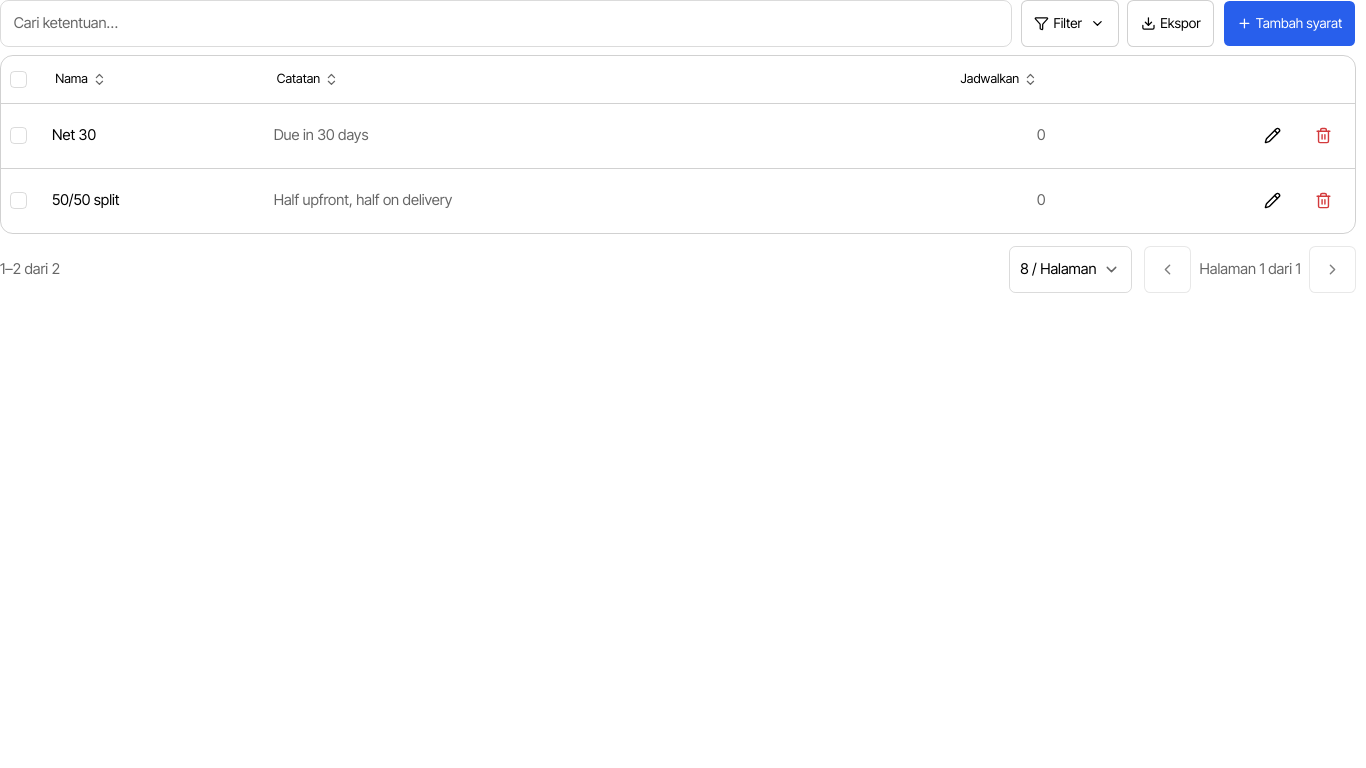
Scenario: PaymentTermsSection remainder › requires at least one line when creating a term
Click the button "Tambah syarat". click: {"x": 1289, "y": 23}
box: x1=1223 y1=0 x2=1356 y2=47
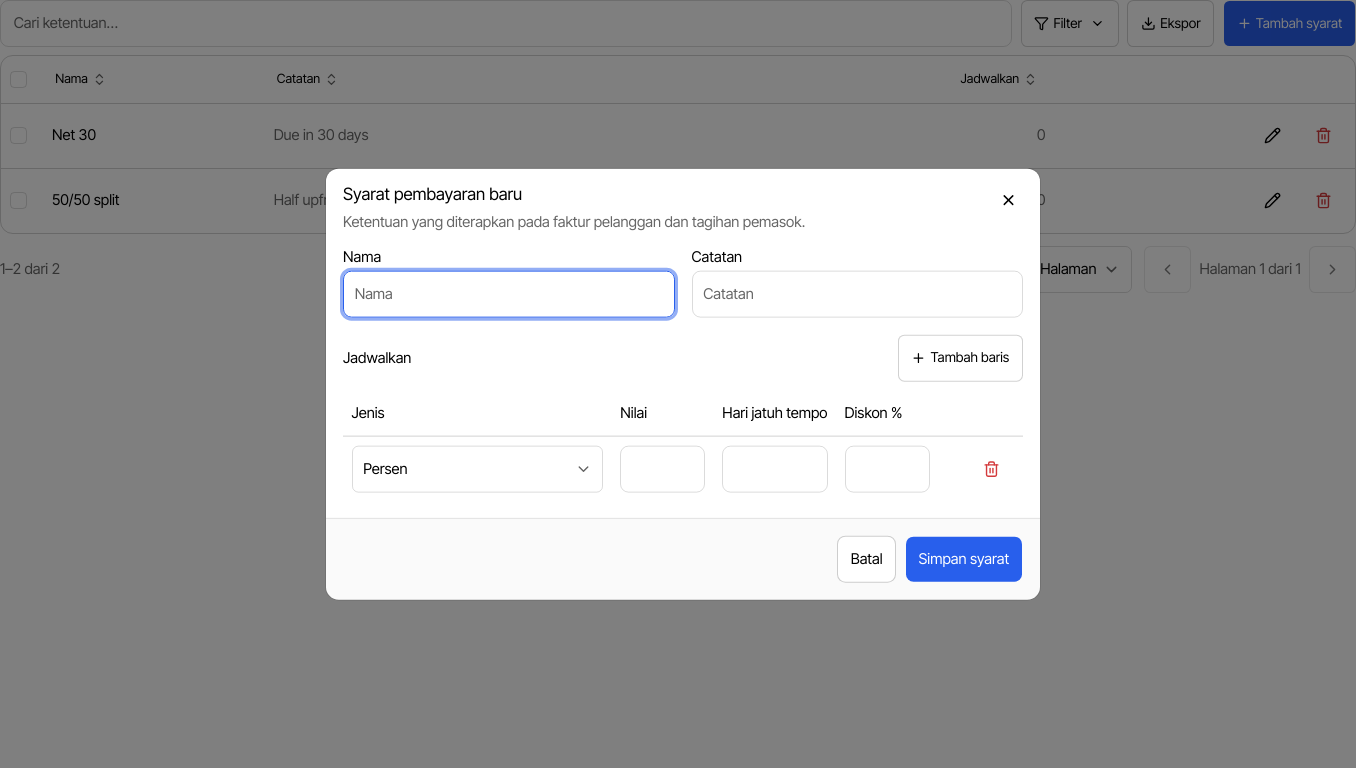
Type "Empty term" into the field labelled "Nama". click: {"x": 509, "y": 294}
box: x1=343 y1=271 x2=674 y2=317
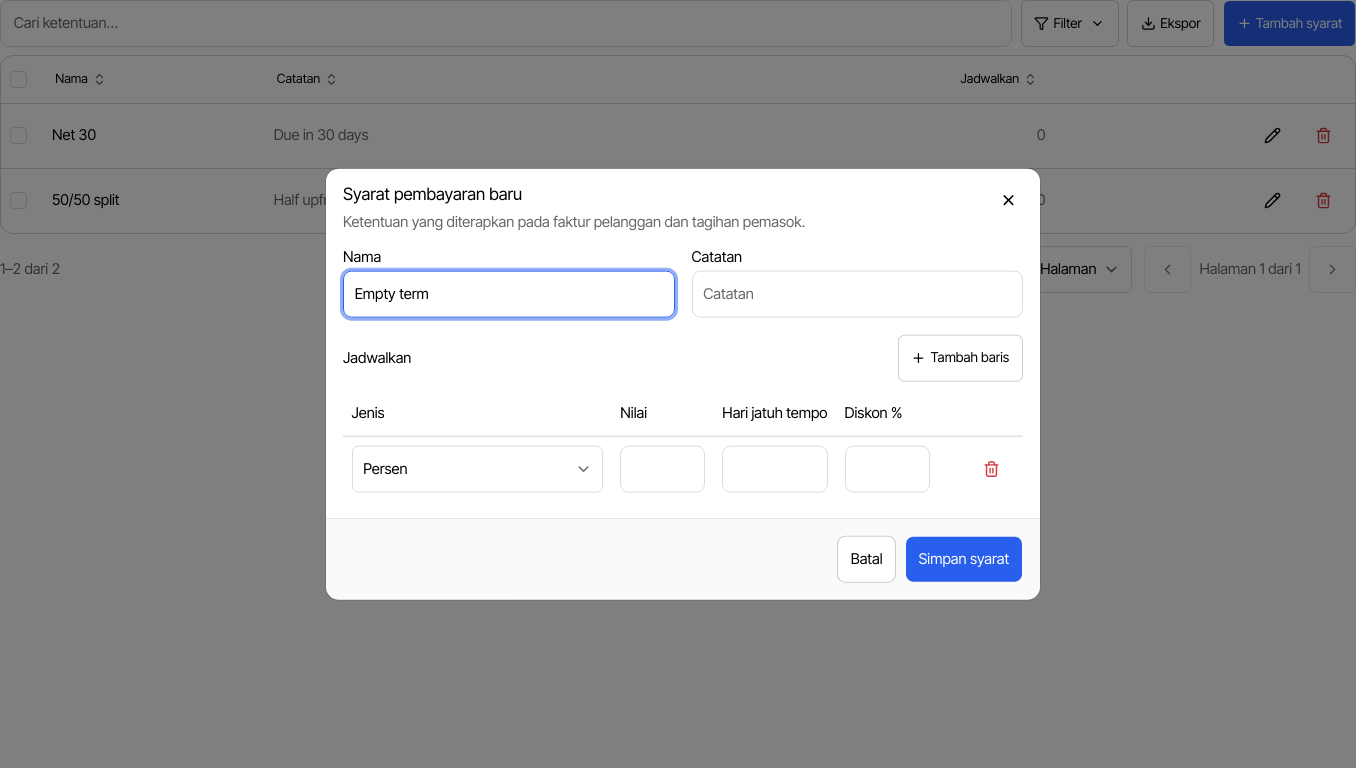
Click the button named "Hapus baris". click: {"x": 991, "y": 469}
box: x1=968 y1=445 x2=1015 y2=492
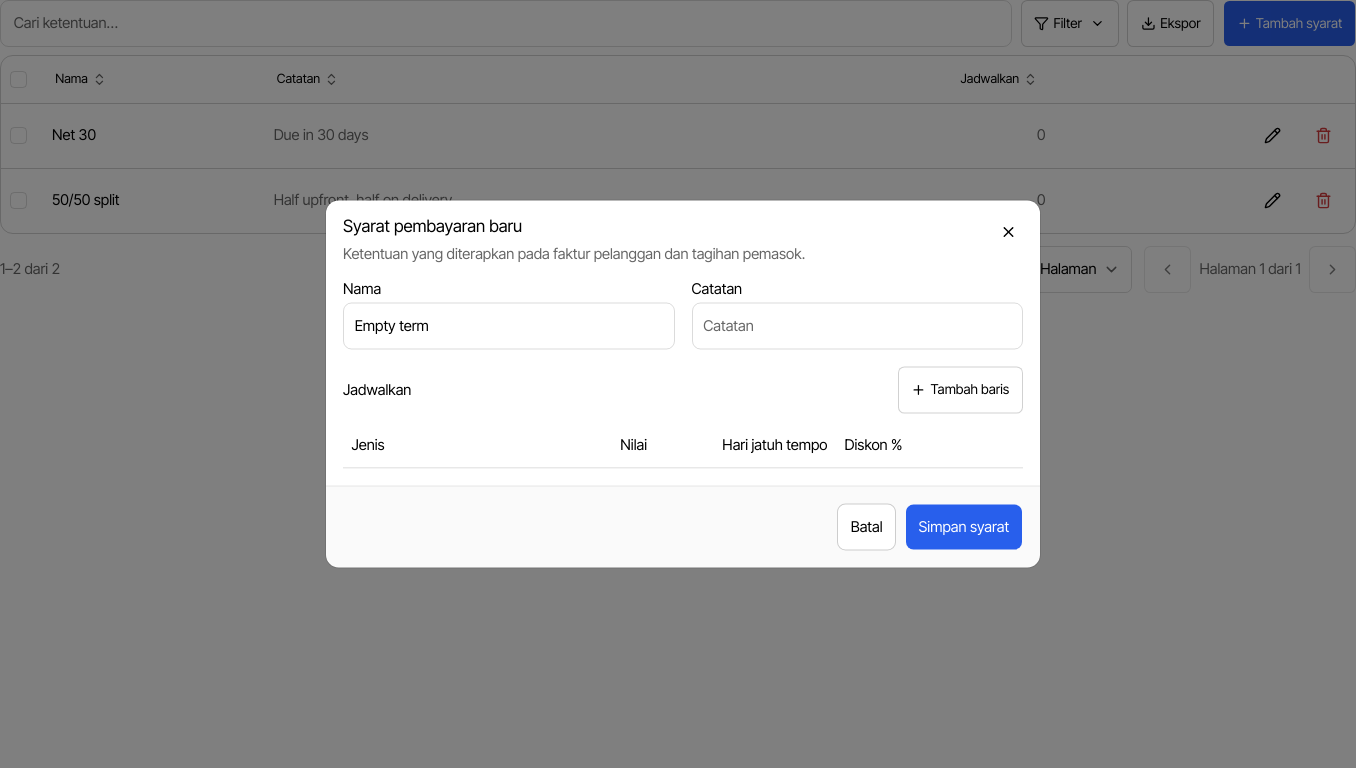
Click the button "Simpan syarat". click: {"x": 964, "y": 527}
box: x1=905 y1=504 x2=1023 y2=551
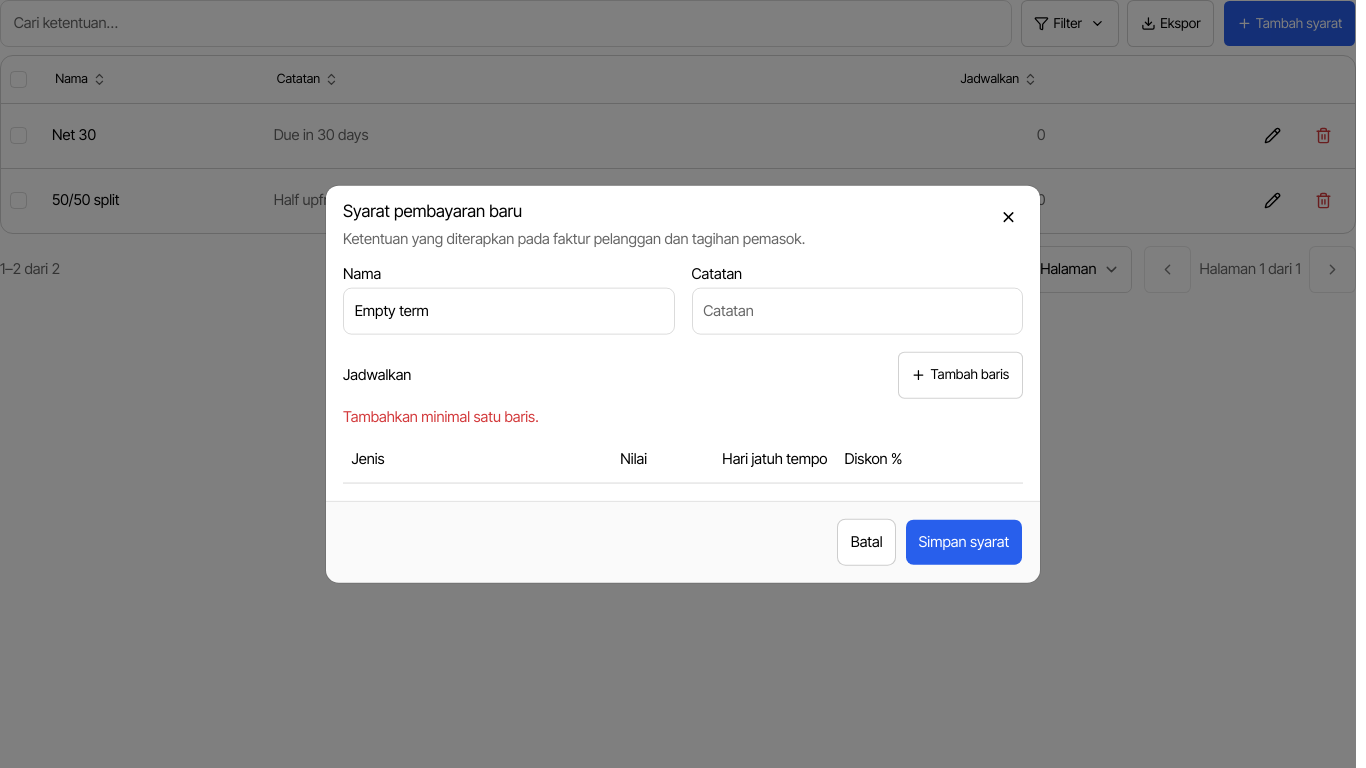
Check: the text "Tambahkan minimal satu baris." is shown, box x1=343 y1=408 x2=539 y2=426
